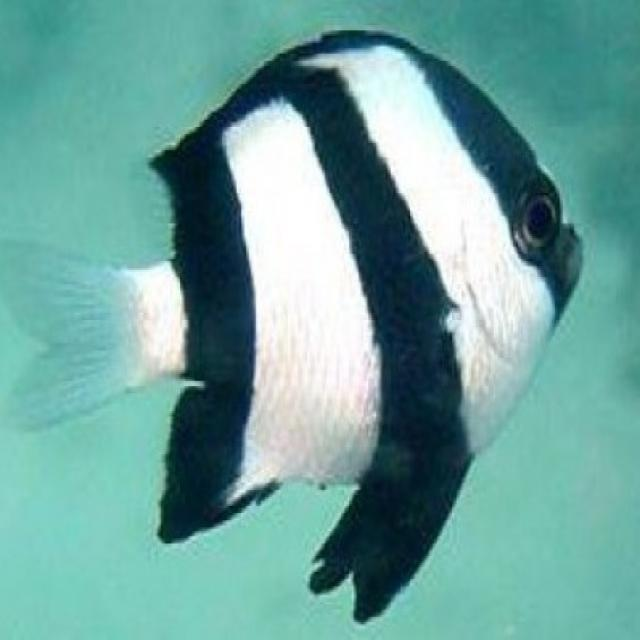ThreeStripedDamselfish: (10, 27, 582, 625)
